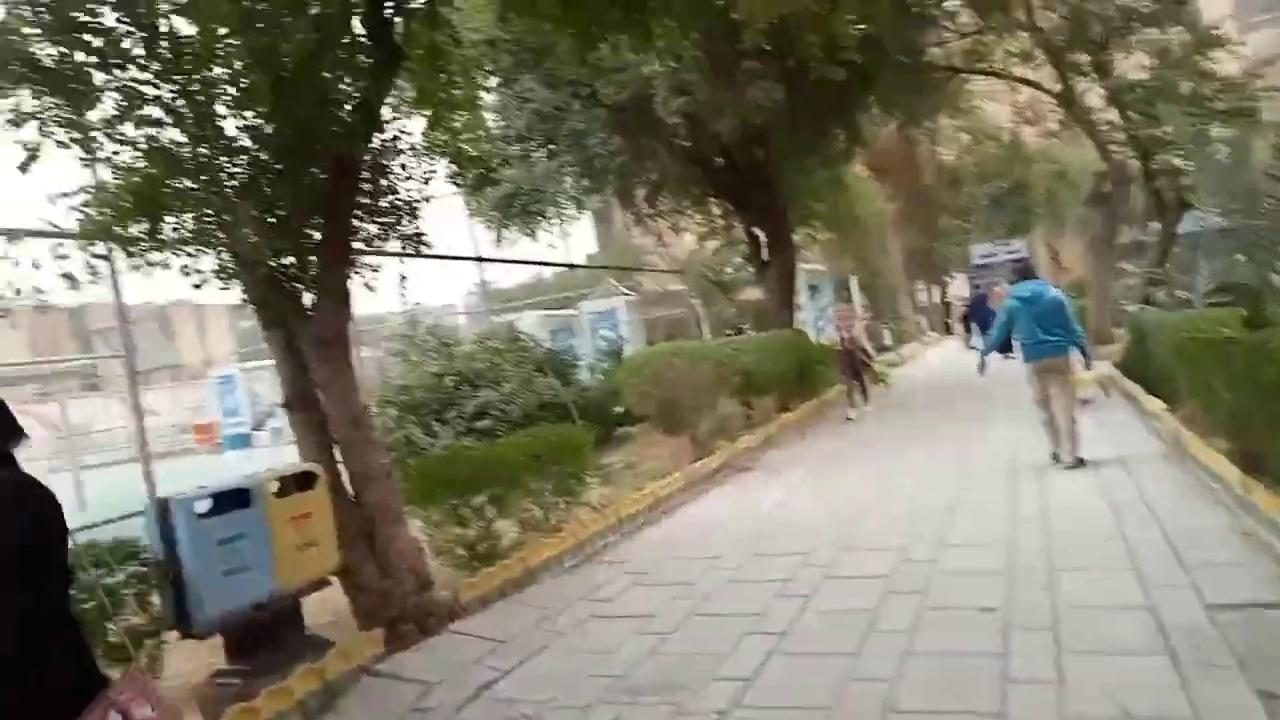person: (0, 397, 110, 719), (975, 259, 1094, 468), (830, 301, 877, 421)
tree: (0, 0, 1280, 481), (0, 0, 622, 651), (435, 0, 964, 338), (915, 0, 1267, 344)
